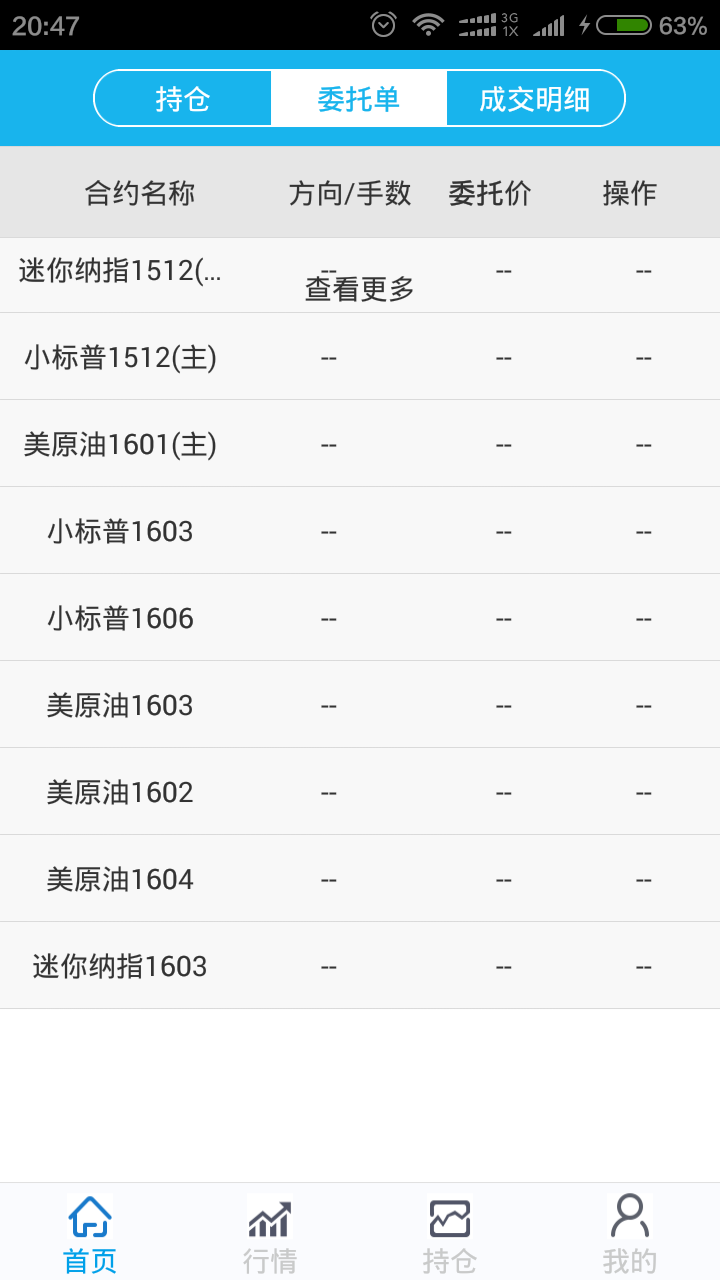nav: (22, 1184, 683, 1280)
textview: (10, 145, 719, 228)
